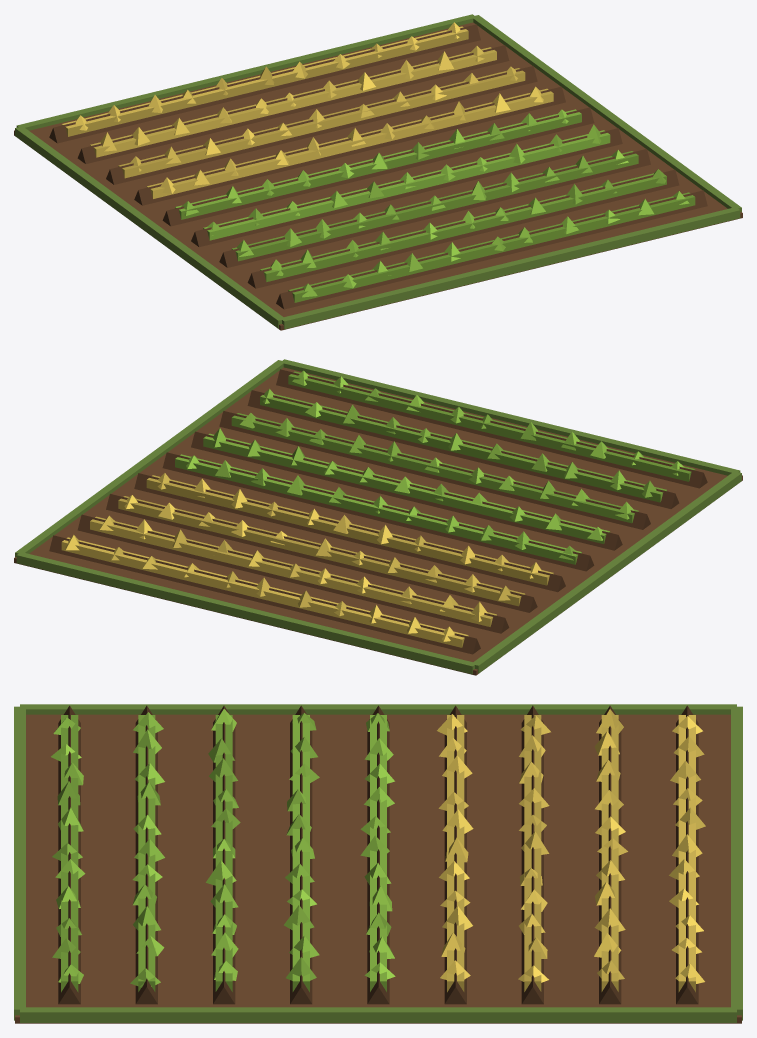
Rendered from farm.glb.
3 views of the same model, one above another, from view 1: azimuth 30°, elevation 25°; view 2: azimuth 150°, elevation 25°; view 3: azimuth 270°, elevation 25° (orthographic). The views are drawn at different scales.
Visible parts, largest first — view 1: farm; view 2: farm; view 3: farm.
Boxes of the visible parts, <box> form: farm: <box>14,14,742,330</box>; farm: <box>14,359,742,675</box>; farm: <box>14,704,742,1023</box>.
Size of the model in its own units: 6.02 by 0.3838 by 6.02.
Materials: 1 (1 with a texture image).
